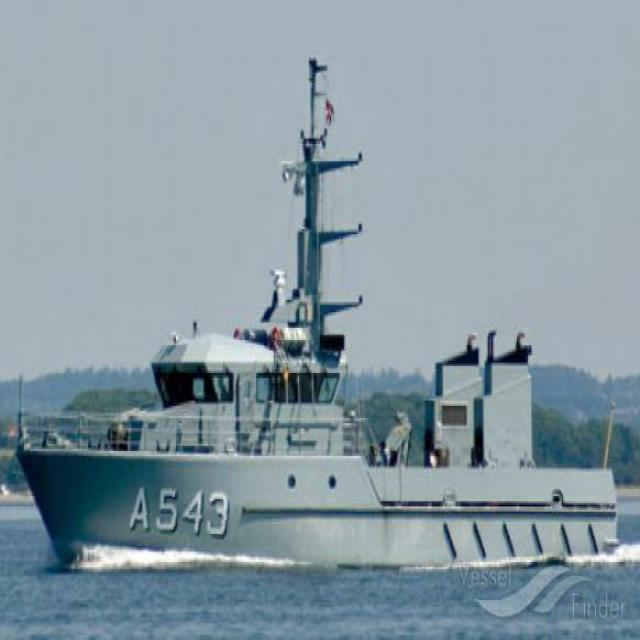OCR: (130, 473, 235, 547)
